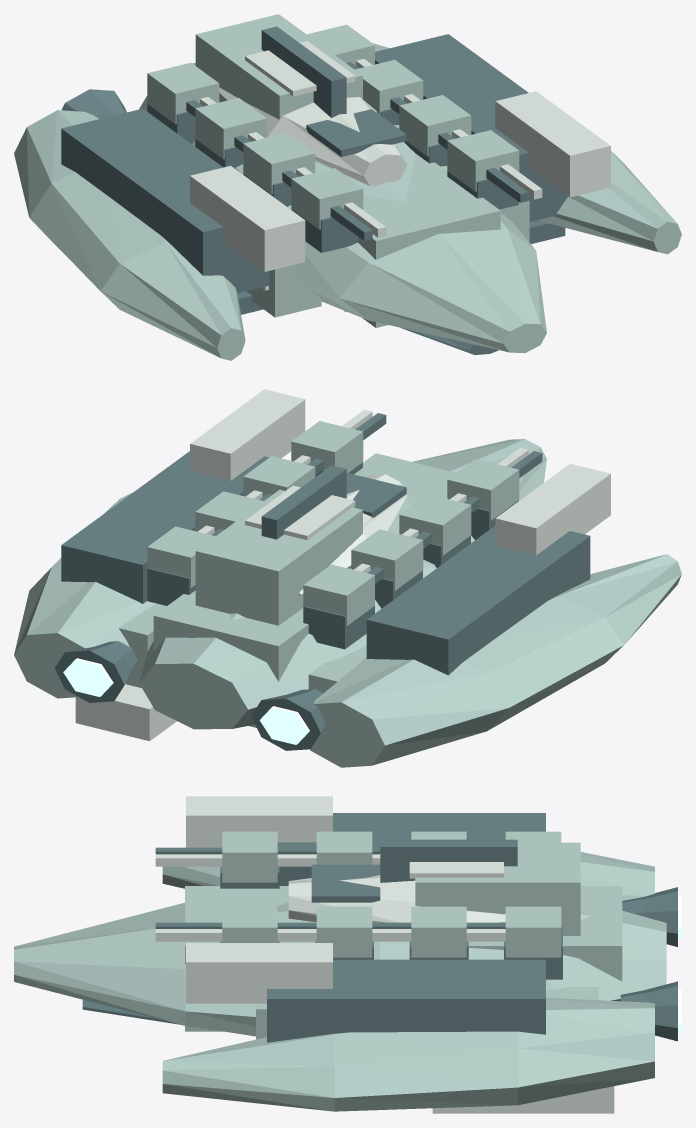
3 renders of one model, top to bottom at view 1: azimuth 30°, elevation 25°; view 2: azimuth 150°, elevation 25°; view 3: azimuth 270°, elevation 25°, orthographic.
Bounding box in the file's own units: 20.15 × 7.51 × 22.62.
